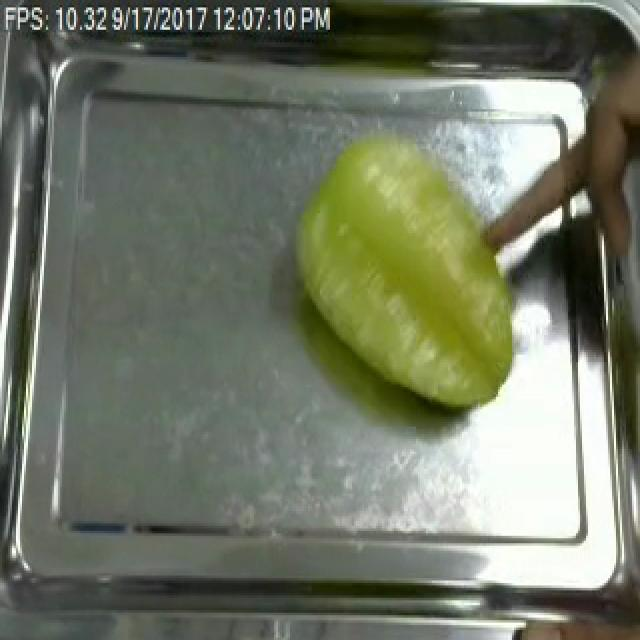fruit: (274, 112, 528, 429)
